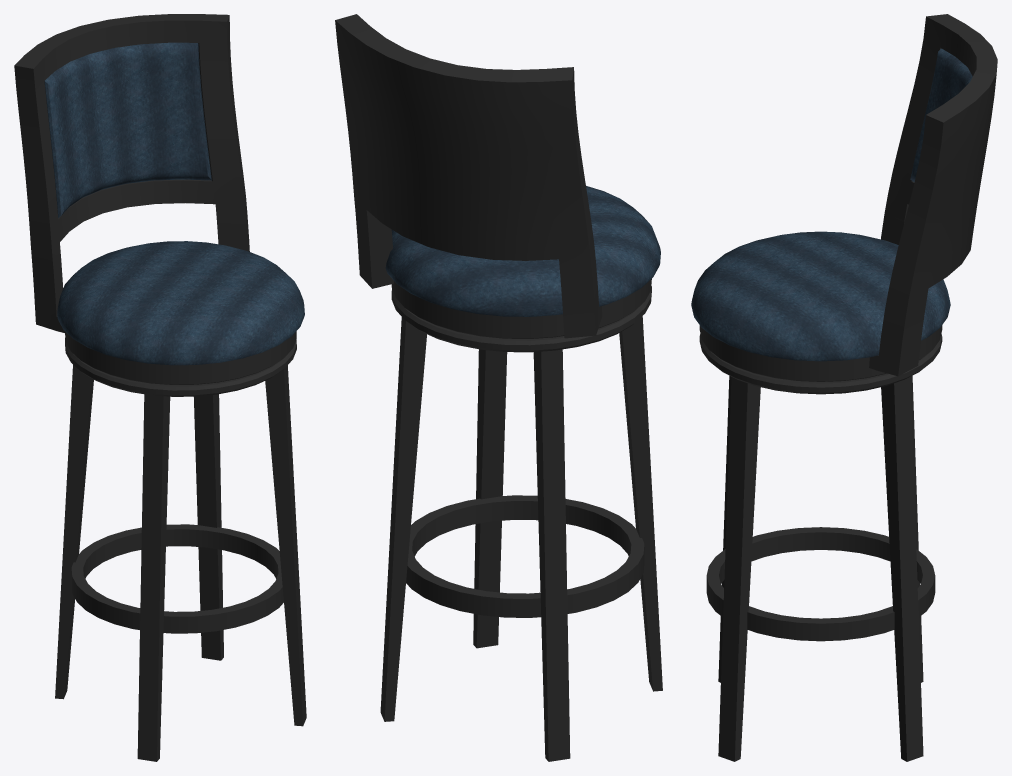
Rendered from Chairs_Bar_Chairs_4.fbx.
3 renders of one model, left to right at view 1: azimuth 30°, elevation 25°; view 2: azimuth 150°, elevation 25°; view 3: azimuth 270°, elevation 25°, orthographic. The views are drawn at different scales.
Visible parts, largest first — view 1: Cube.029; view 2: Cube.029; view 3: Cube.029.
Part boxes in pixels (left/top/right/bottom): Cube.029: left=14, top=14, right=306, bottom=761; Cube.029: left=335, top=14, right=662, bottom=761; Cube.029: left=691, top=14, right=997, bottom=761.
Size of the model in its own units: 51.1 by 142 by 60.37.
